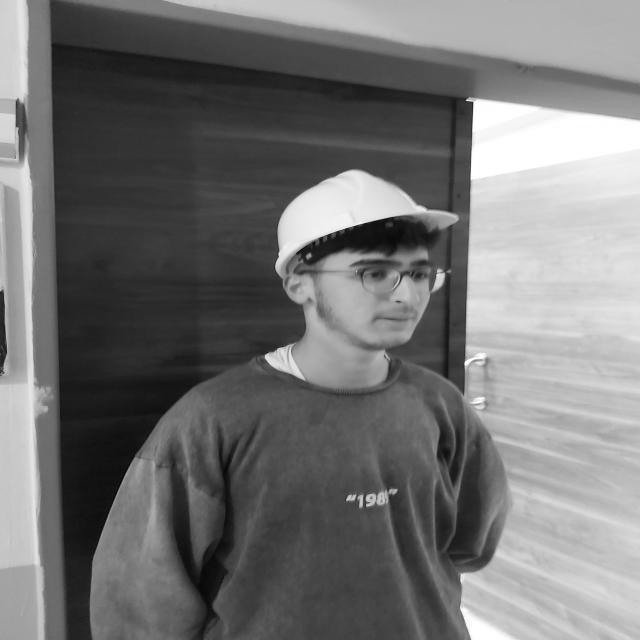safety_helmet: (274, 169, 459, 278)
